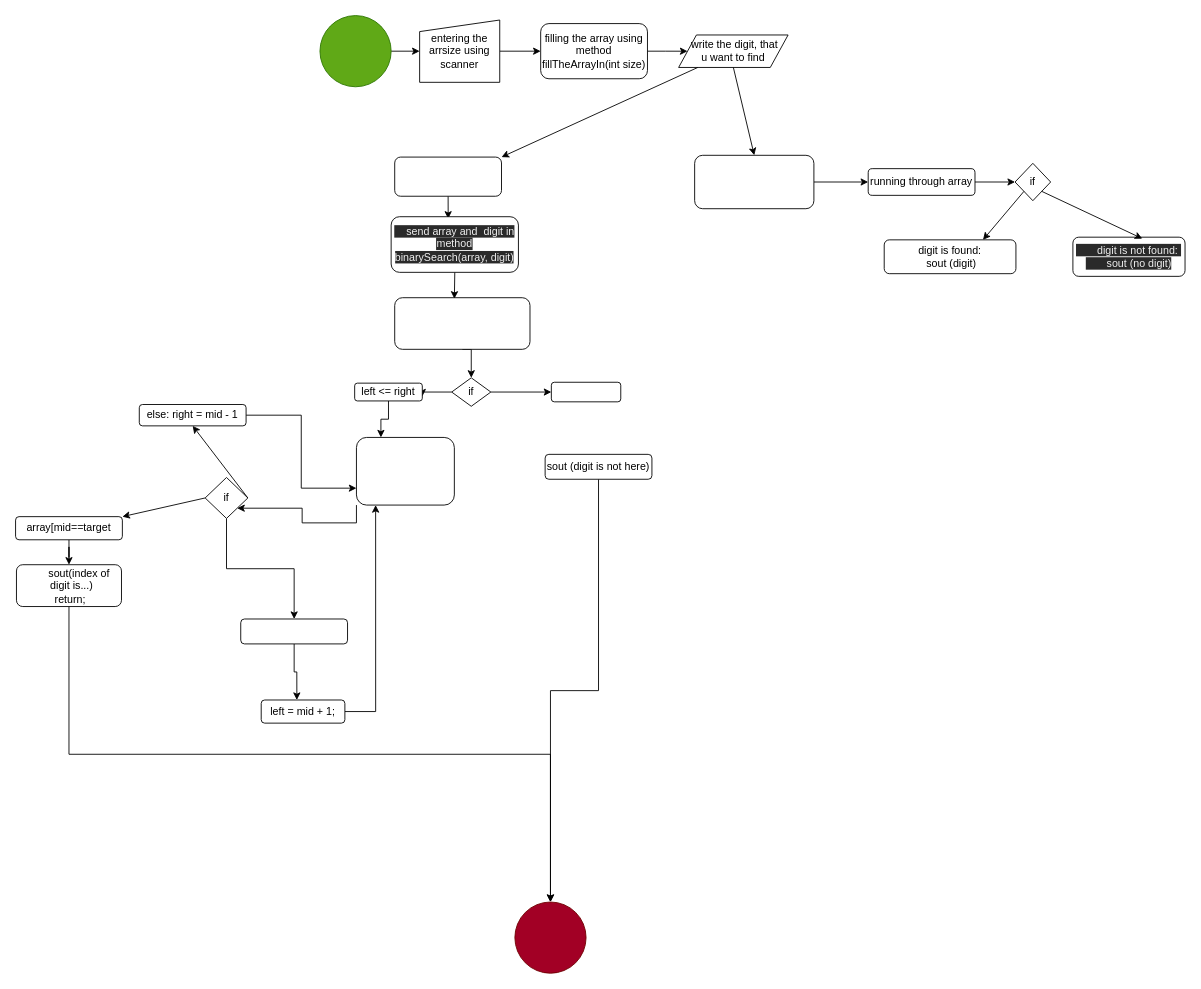
Some shapes in this 1201 by 989 pixel diagram are drawn without their labels. The centre of each missing label's shape, as x and y in pixels:
"array[mid < target]" belongs at (x=294, y=631).
"creating loop while (left <= right)" belongs at (x=405, y=471).
"creation int left = 0; int right = length - 1; int steps = 0;" belongs at (x=462, y=323).
"end programm" belongs at (x=550, y=937).
"left >= right" belongs at (x=585, y=391).
"send array and digit in method usuallSearch(array, digit)" belongs at (x=754, y=181).
"sort array Array.sortArray(array)" belongs at (x=448, y=176).
"startProgramm" belongs at (x=355, y=51).
